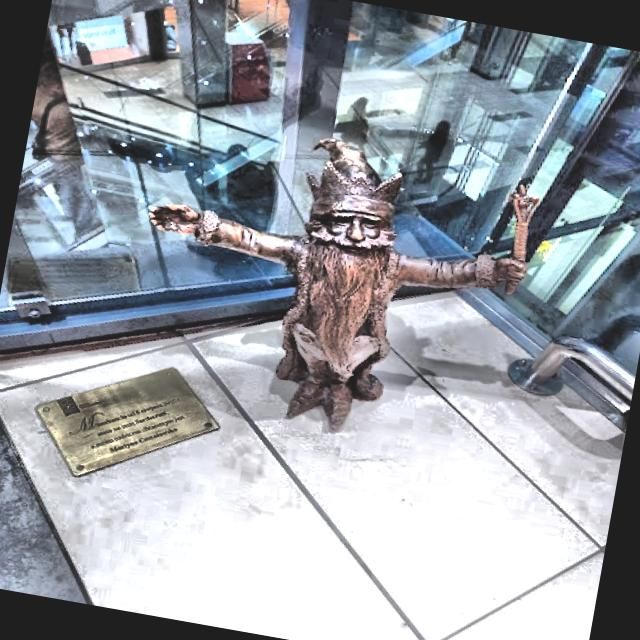Serdecznis: (150, 138, 536, 429)
